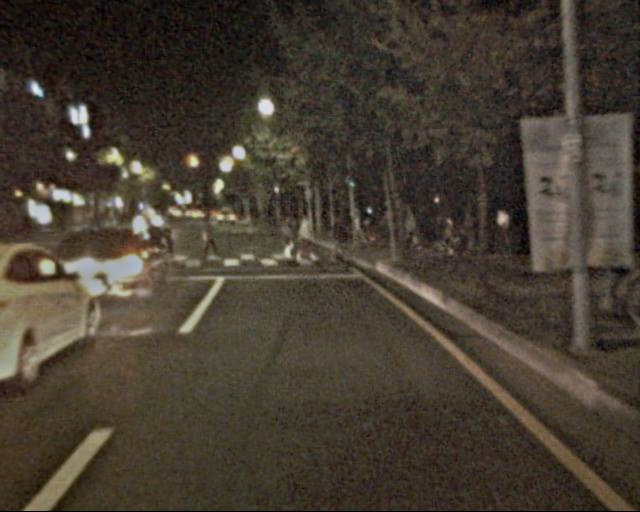person: (153, 207, 178, 267), (195, 211, 220, 266), (277, 214, 300, 266), (457, 205, 480, 255), (295, 212, 317, 264), (331, 211, 351, 264), (400, 207, 421, 256)
